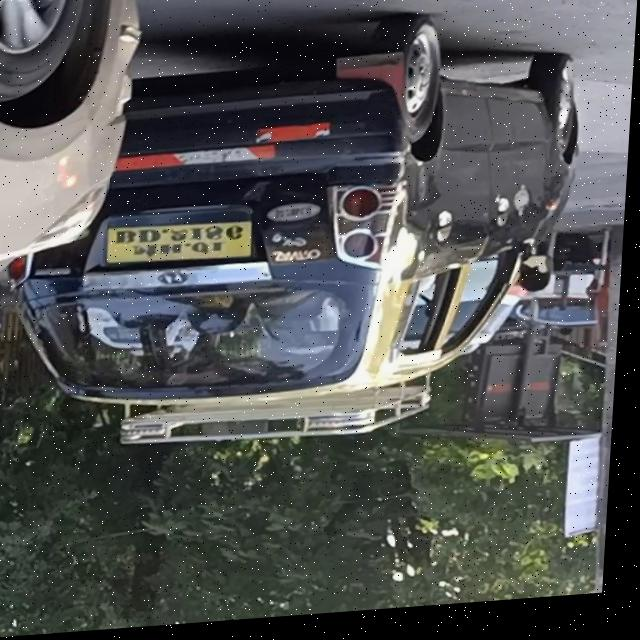plate: (105, 220, 257, 272)
